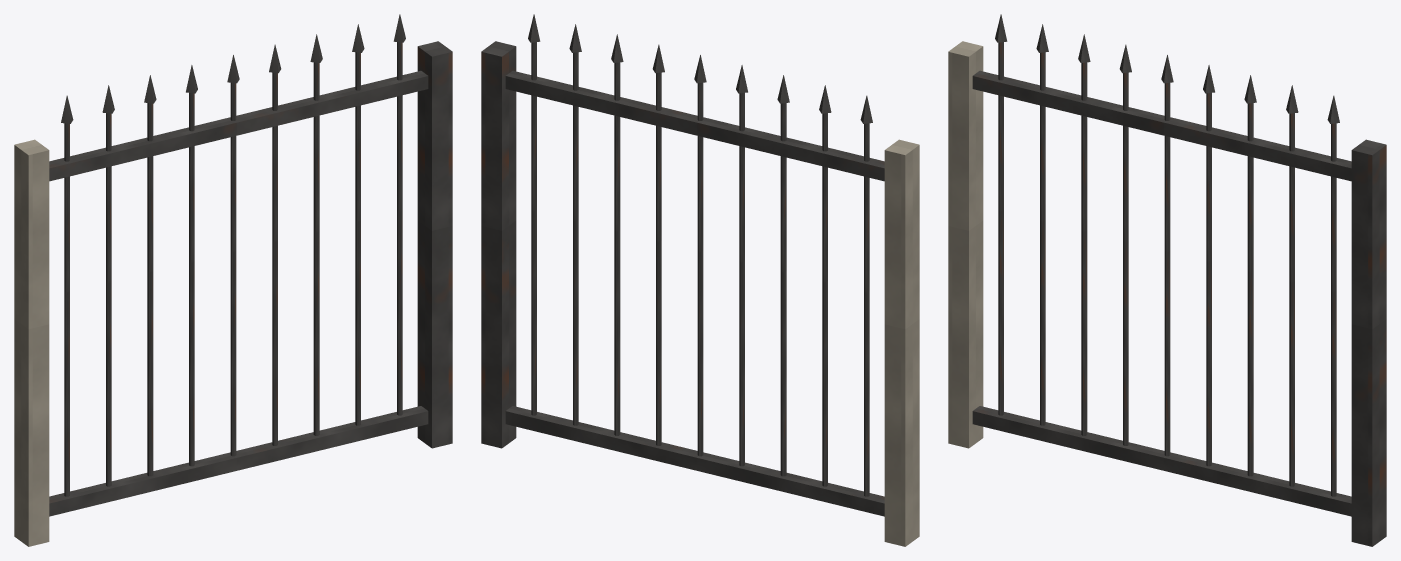
File: Fence_Iron_Spear_1.gltf
3 views of the same model, side by side, from view 1: azimuth 30°, elevation 25°; view 2: azimuth 150°, elevation 25°; view 3: azimuth 330°, elevation 25° (orthographic).
Visible parts, largest first — view 1: Fence_Iron_Spear_1; view 2: Fence_Iron_Spear_1; view 3: Fence_Iron_Spear_1.
Boxes of the visible parts, x1,y1,x2,y2 form: Fence_Iron_Spear_1: (14, 14, 452, 546); Fence_Iron_Spear_1: (481, 14, 919, 546); Fence_Iron_Spear_1: (948, 14, 1386, 546).
Bounding box in the file's own units: 2.04 × 2 × 0.12.
Materials: 2 (2 with a texture image).
